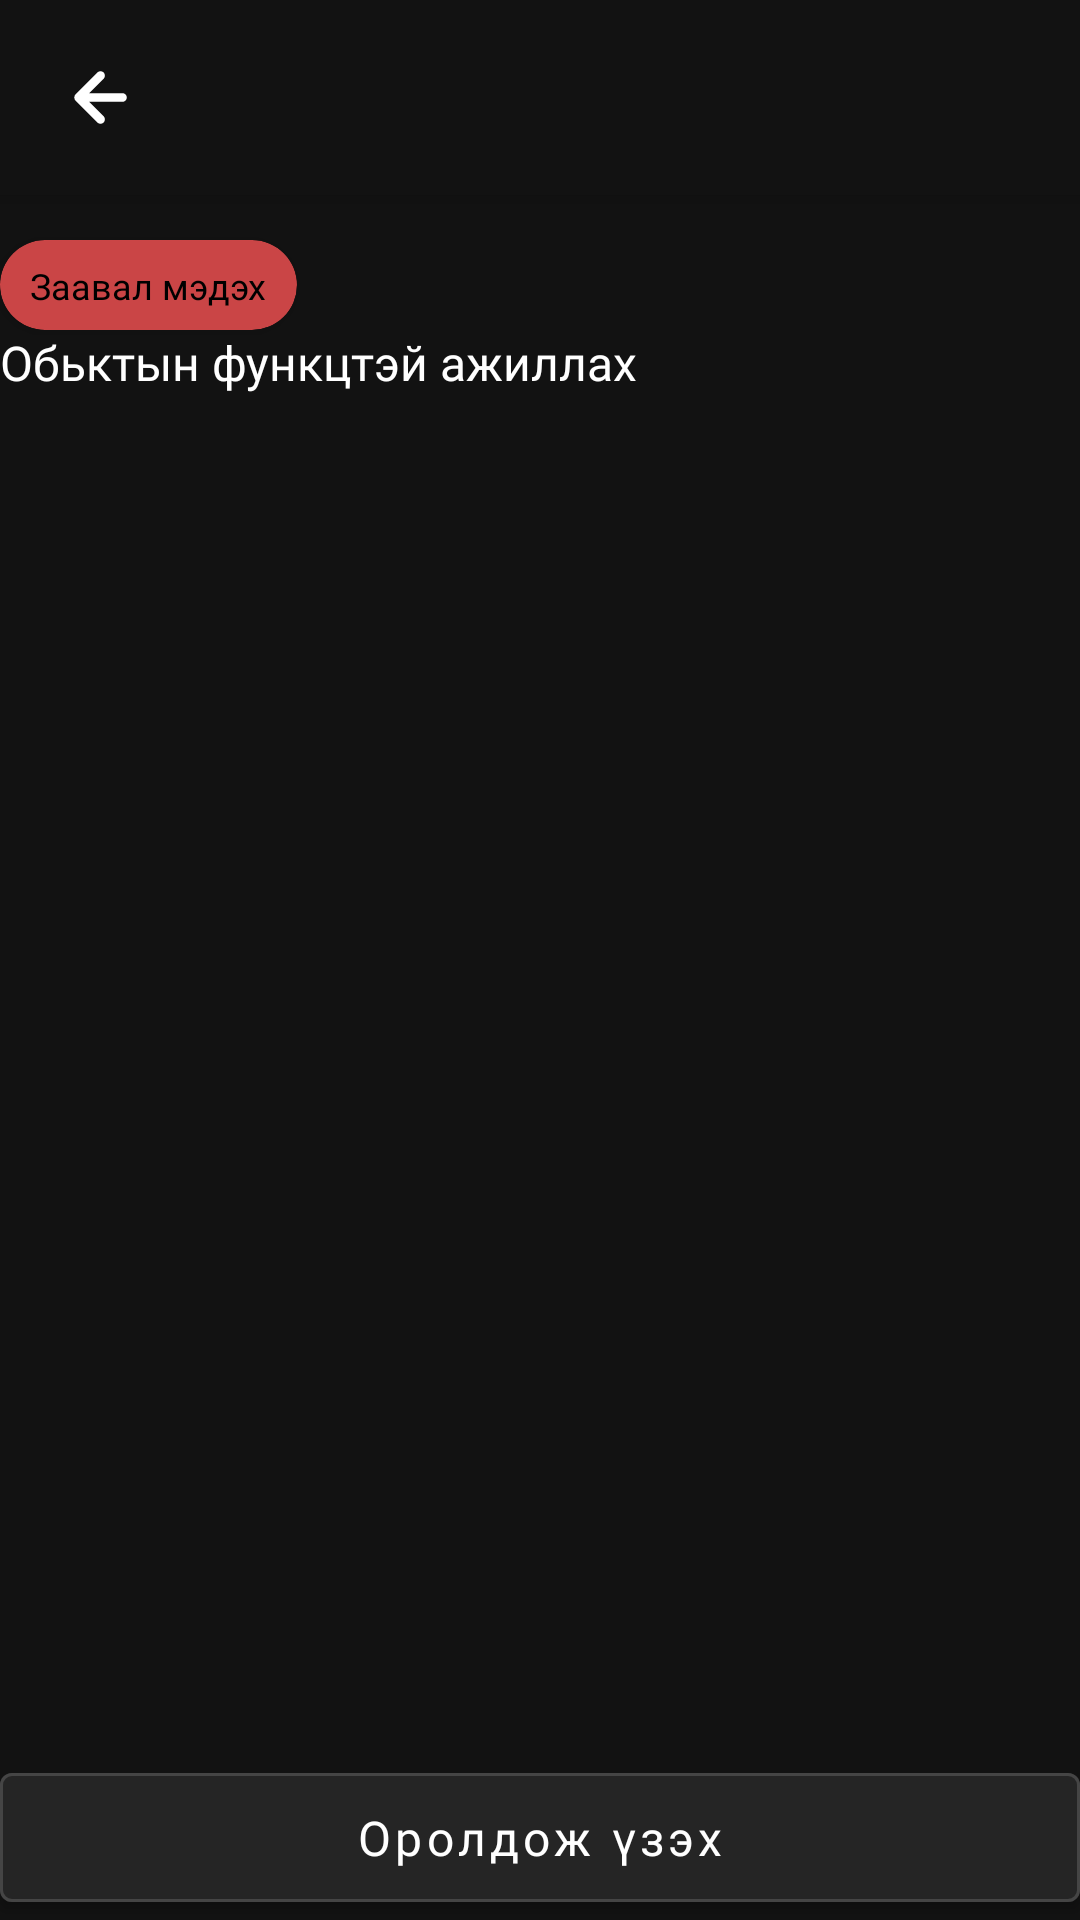

Screen size 1080px×1920px. Icon name, then its center in pixels as point (x, y):
back arrow: point (100, 97)
